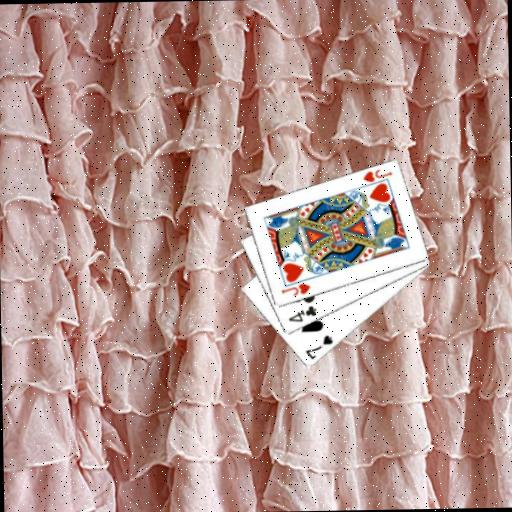4C: (285, 303, 319, 324)
7S: (303, 332, 335, 361)
JH: (360, 166, 394, 184), (278, 281, 312, 298)
